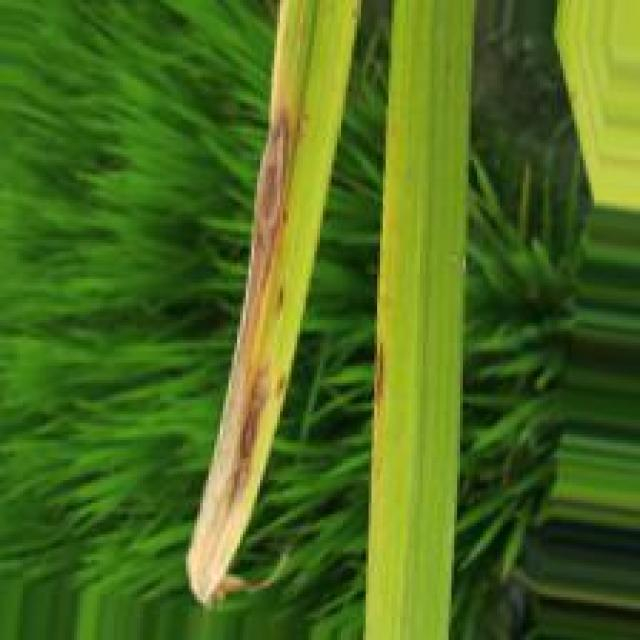Leaf_Scald: (222, 106, 290, 436), (222, 364, 277, 524)
